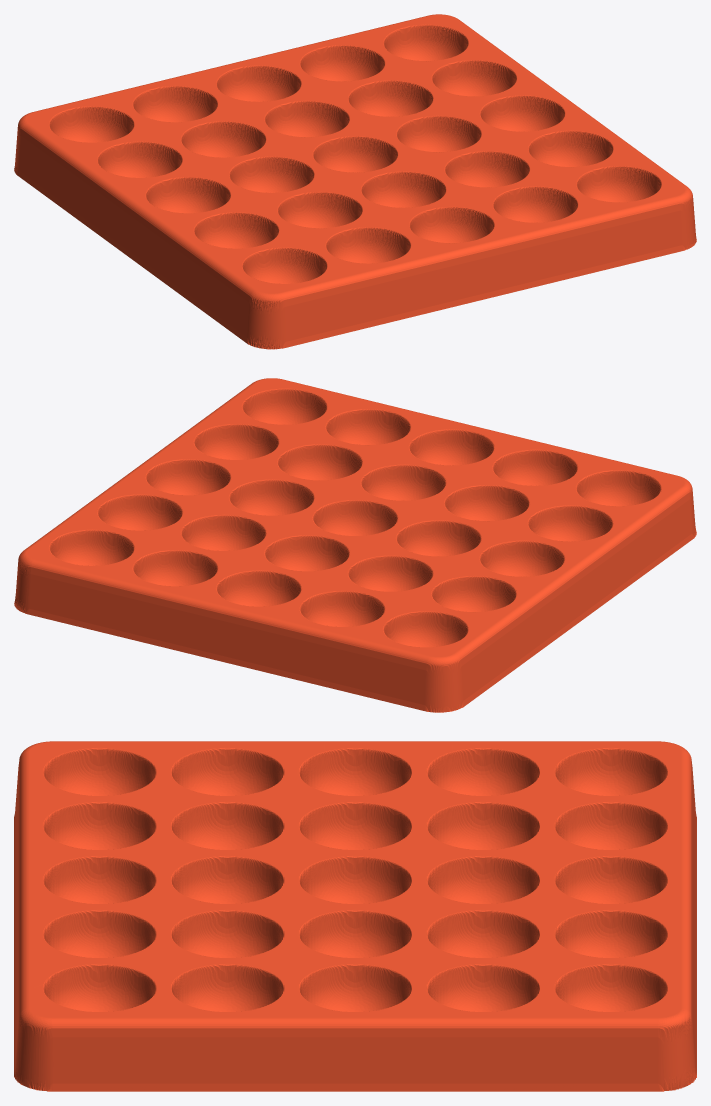
File: mold.glb
The picture shows the model from 3 angles, top to bottom: view 1: azimuth 30°, elevation 25°; view 2: azimuth 150°, elevation 25°; view 3: azimuth 270°, elevation 25°; orthographic projection. The views are drawn at different scales.
Visible parts, largest first — view 1: geometry_0; view 2: geometry_0; view 3: geometry_0.
Part boxes in pixels (box(x1,y1,x2,y2)): geometry_0: box(14, 14, 696, 349); geometry_0: box(14, 378, 696, 712); geometry_0: box(14, 741, 696, 1091).
Bounding box in the file's own units: 0.1584 × 0.0172 × 0.1584.
